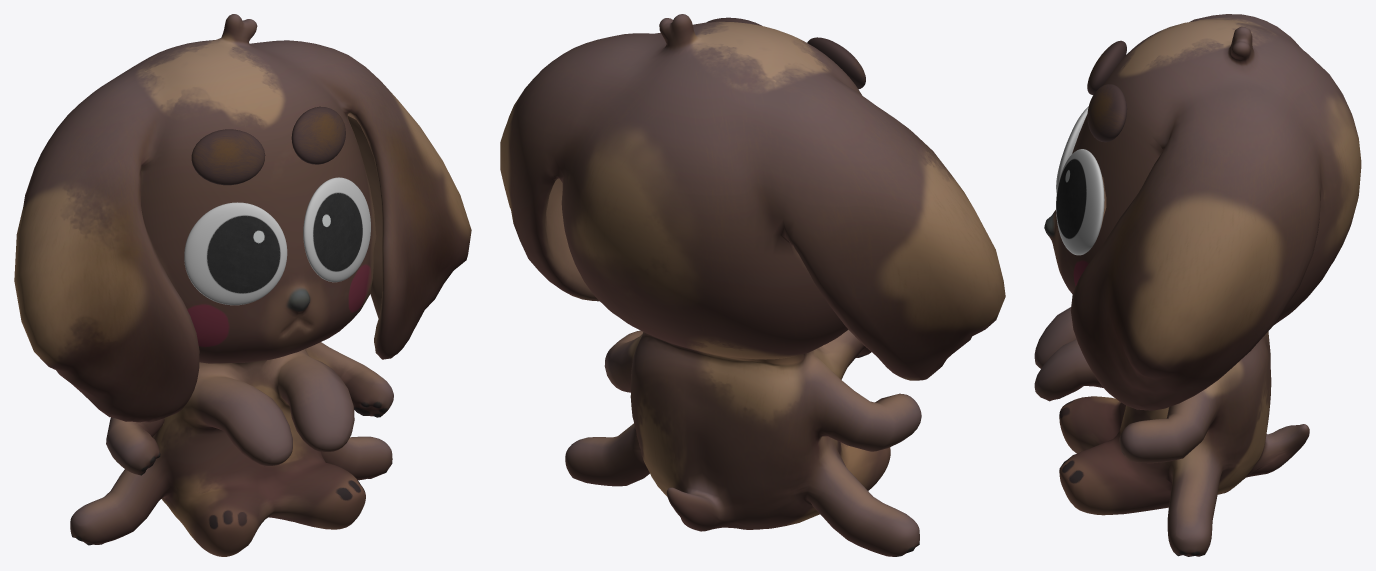
The model's file is RolfePose 1.fbx.
3 renders of one model, left to right at view 1: azimuth 30°, elevation 25°; view 2: azimuth 150°, elevation 25°; view 3: azimuth 270°, elevation 25°, orthographic. The views are drawn at different scales.
Visible parts, largest first — view 1: lowpoly, Rig_Name Eye Left GEO, Face Parts; view 2: lowpoly, Face Parts; view 3: lowpoly, Rig_Name Eye Left GEO, Face Parts.
Part boxes in pixels (box(x1,y1,x2,y2)): lowpoly: box(14, 14, 471, 556); Rig_Name Eye Left GEO: box(184, 177, 370, 305); Face Parts: box(191, 106, 345, 185); lowpoly: box(500, 14, 1005, 556); Face Parts: box(706, 17, 865, 89); lowpoly: box(1034, 14, 1361, 556); Rig_Name Eye Left GEO: box(1056, 106, 1104, 255); Face Parts: box(1087, 40, 1127, 142).
Bounding box in the file's own units: 253 × 258 × 161.
